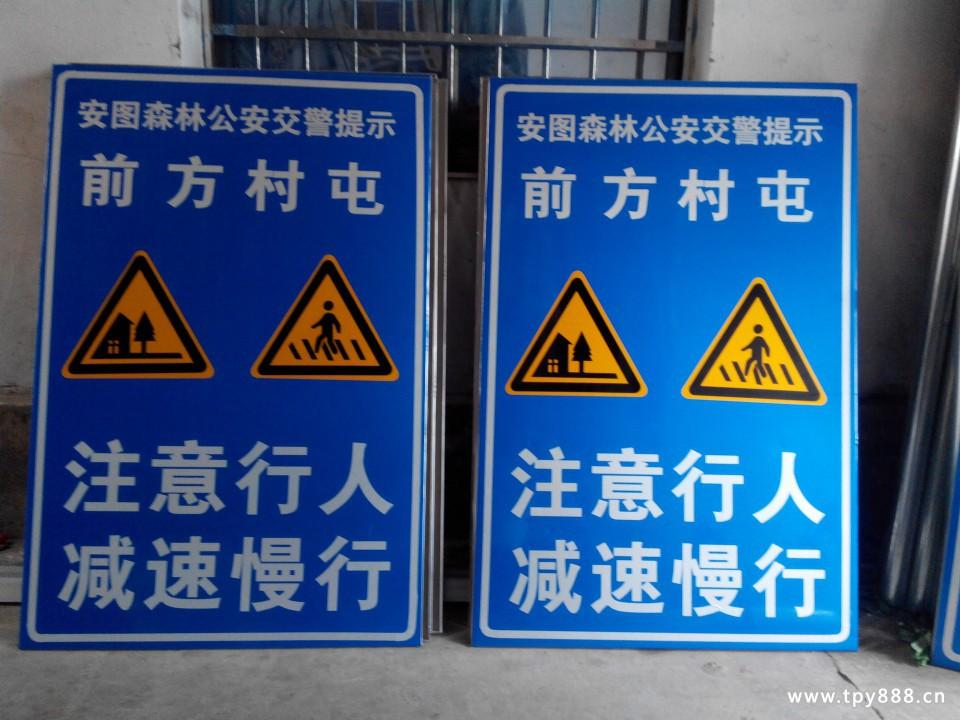sign: (487, 81, 859, 654), (59, 72, 414, 632)
